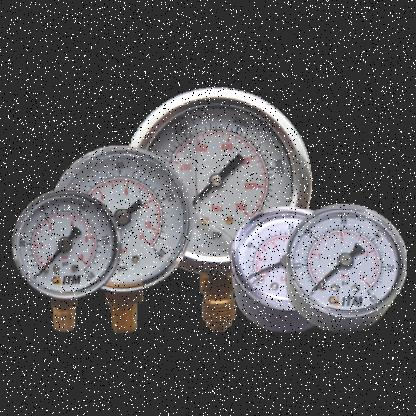needle: (310, 262, 343, 292), (35, 248, 63, 278)
